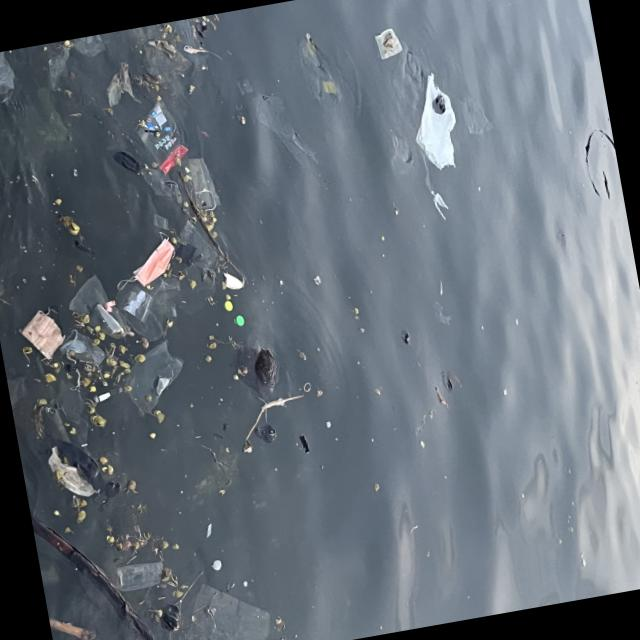foam: (222, 271, 245, 292)
plastic bag: (411, 68, 458, 170)
